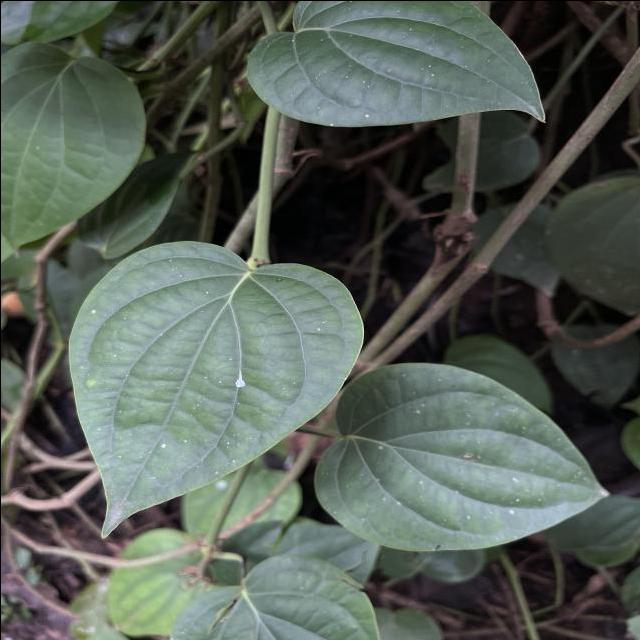Piper nigrum: (66, 238, 366, 539), (310, 359, 612, 552)
